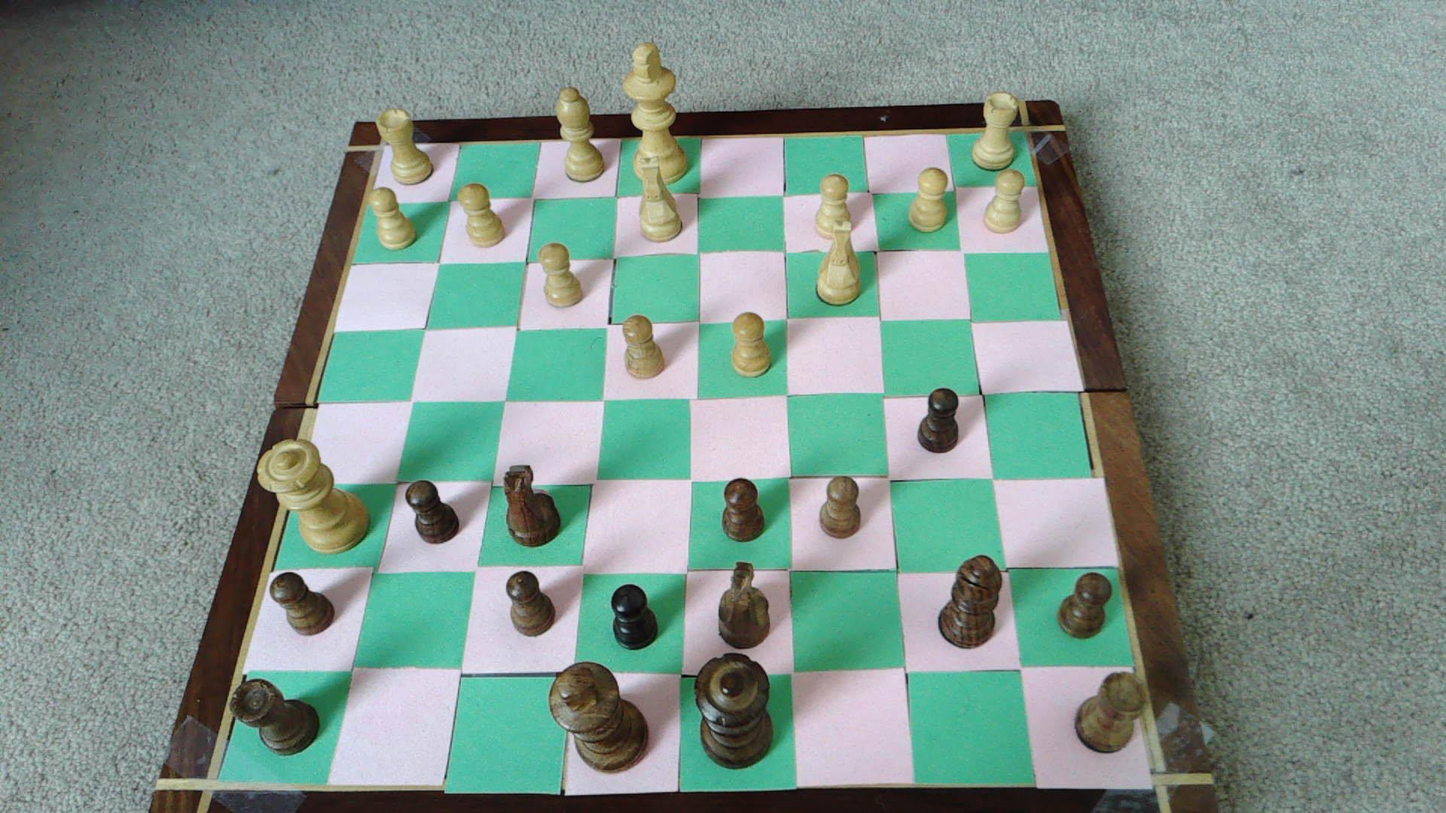dark_piece: (550, 662, 647, 770), (695, 654, 772, 767), (231, 679, 319, 754), (939, 555, 1002, 648), (1076, 672, 1147, 752), (503, 465, 560, 547), (718, 562, 770, 648), (270, 572, 335, 634), (1058, 572, 1110, 638), (406, 480, 459, 543), (506, 571, 555, 635), (611, 584, 659, 649), (917, 387, 959, 452), (722, 478, 765, 540), (819, 477, 861, 537)
white_piece: (258, 441, 368, 551), (622, 41, 688, 183), (554, 87, 605, 181), (378, 108, 434, 185), (635, 156, 682, 242), (972, 92, 1018, 170), (816, 227, 861, 305), (458, 184, 506, 247), (371, 187, 417, 250), (540, 242, 584, 307), (623, 314, 666, 378), (908, 167, 949, 232), (984, 169, 1025, 233), (731, 312, 771, 376), (814, 174, 853, 239)
